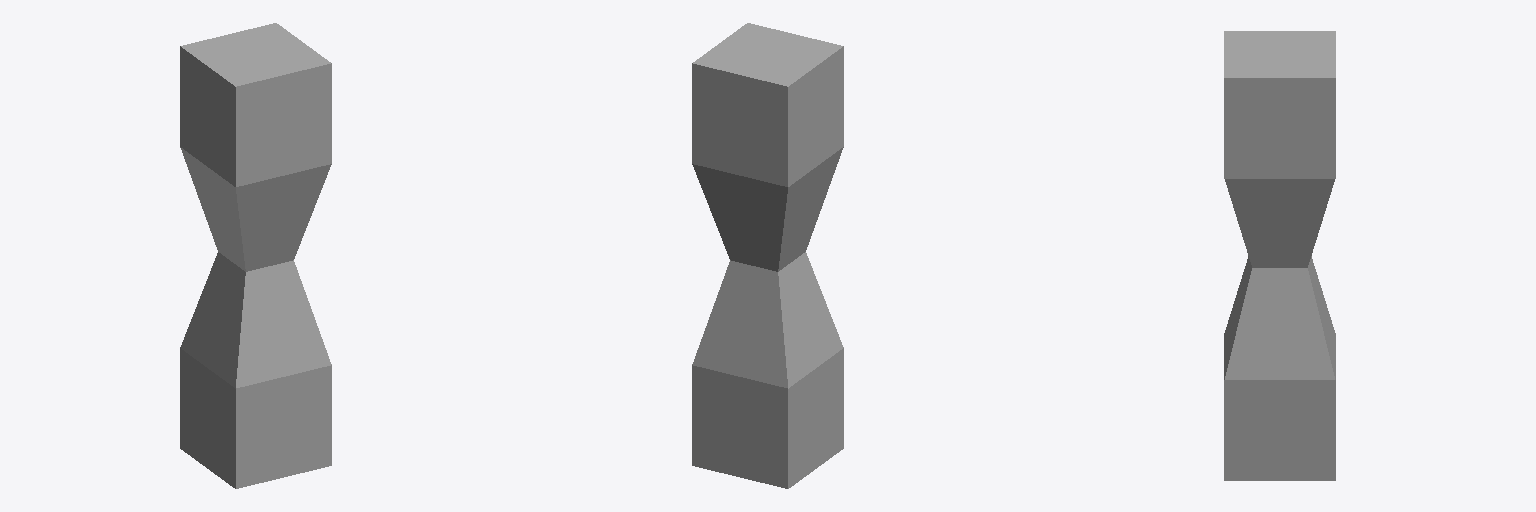
File: pulser.obj
3 views of the same model, side by side, from view 1: azimuth 30°, elevation 25°; view 2: azimuth 150°, elevation 25°; view 3: azimuth 270°, elevation 25° (orthographic).
Visible parts, largest first — view 1: Push_Model_Push_Geometry; view 2: Push_Model_Push_Geometry; view 3: Push_Model_Push_Geometry.
Boxes of the visible parts, x1=… form: Push_Model_Push_Geometry: x1=180, y1=23, x2=331, y2=488; Push_Model_Push_Geometry: x1=692, y1=23, x2=843, y2=488; Push_Model_Push_Geometry: x1=1224, y1=31, x2=1335, y2=480.
Bounding box in the file's own units: 1 × 4 × 1.